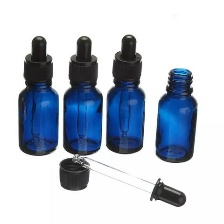bottle: (153, 63, 206, 171), (107, 50, 150, 159), (16, 51, 60, 157), (66, 56, 103, 160)
